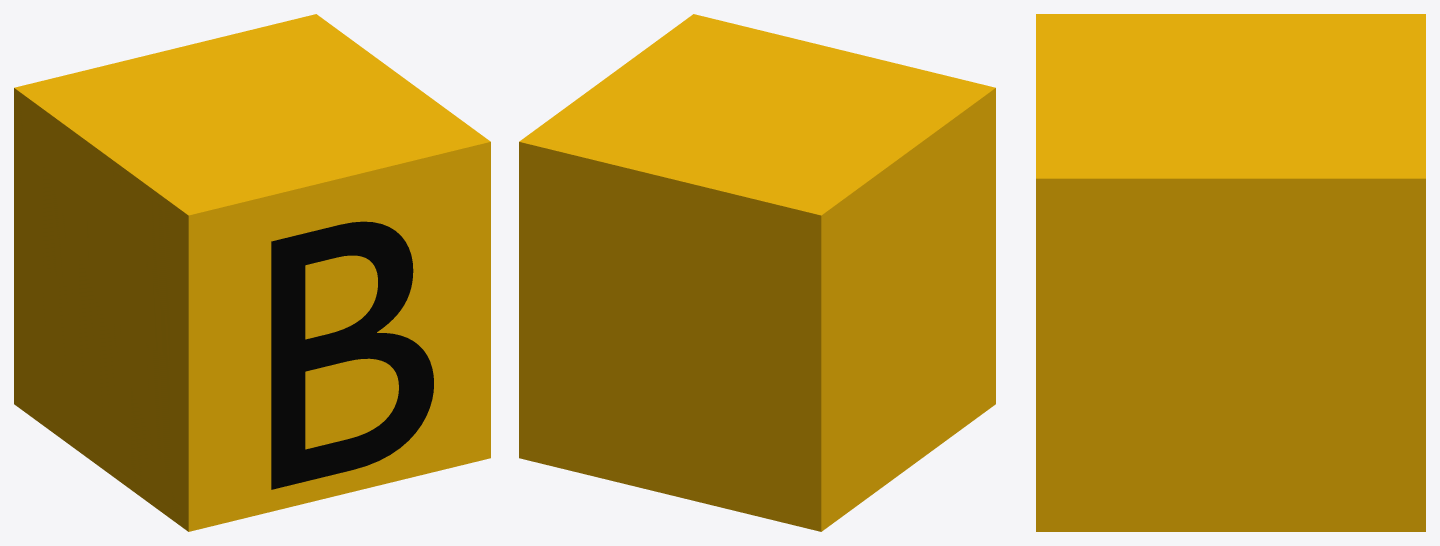
Rendered from Tegel2.gltf.
3 views of the same model, side by side, from view 1: azimuth 30°, elevation 25°; view 2: azimuth 150°, elevation 25°; view 3: azimuth 270°, elevation 25° (orthographic). The views are drawn at different scales.
Parts seen in each view (by area): view 1: Cube.010, Text.010; view 2: Cube.010; view 3: Cube.010.
Part boxes in pixels (<box>): Cube.010: <box>14,14,490,531</box>; Text.010: <box>271,221,433,489</box>; Cube.010: <box>519,14,995,531</box>; Cube.010: <box>1036,14,1425,531</box>.
Size of the model in its own units: 0.2 by 0.2 by 0.2061.
